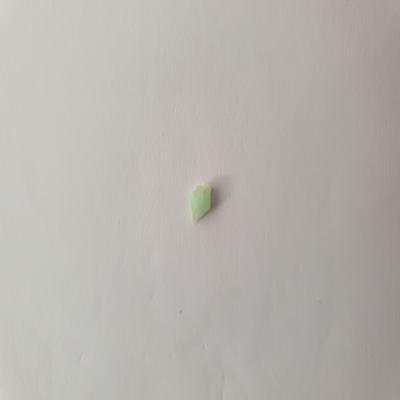plastic: (187, 180, 219, 229)
